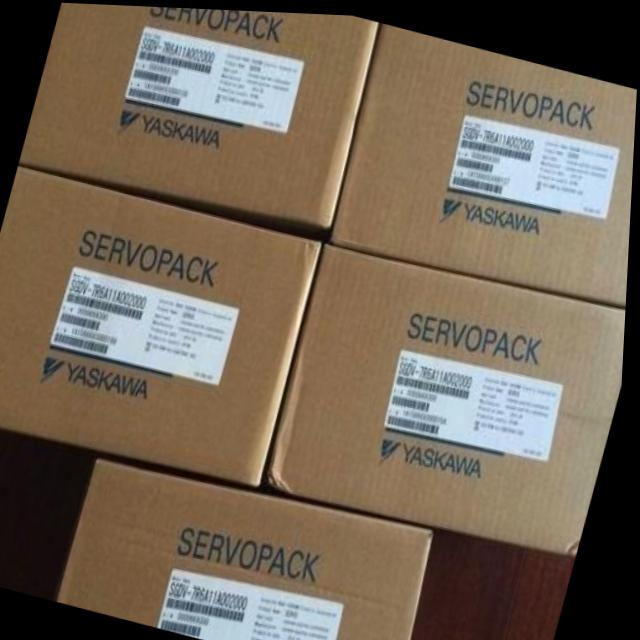box: (266, 241, 629, 548), (0, 166, 325, 485), (332, 20, 637, 301), (20, 2, 378, 235), (63, 458, 438, 640)
